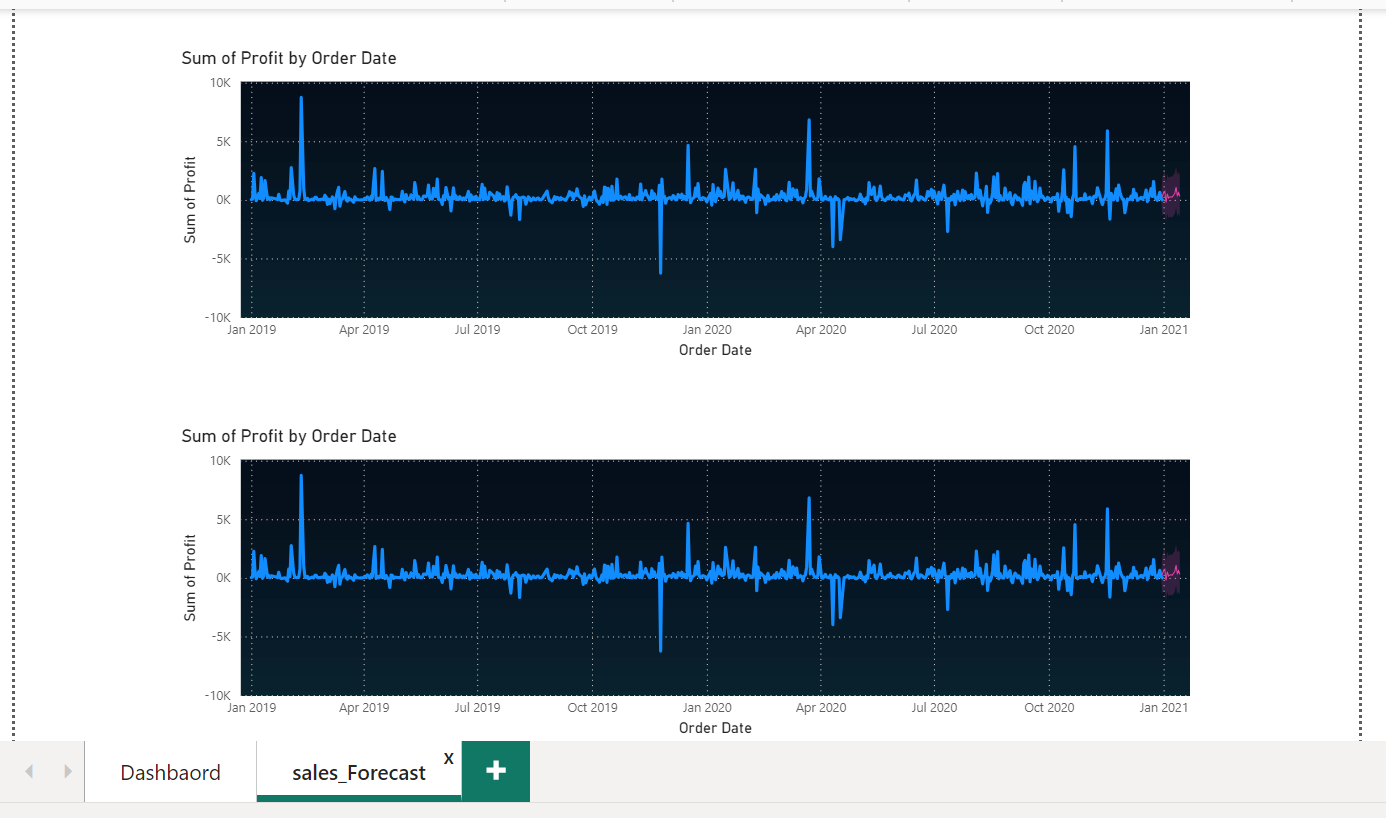

What the dashboard file says about the page in this screenshot:
{"tool":"powerbi","page":{"name":"sales_Forecast","canvas":[1280,720],"ordinal":1},"visuals":[{"type":"lineChart","fields":{"Y":["Sum(SuperStore_Sales_Dataset.Profit)"],"Category":["SuperStore_Sales_Dataset.Order Date"]},"box":[153.8,419.5,984.8,299.6],"z":0},{"type":"lineChart","fields":{"Y":["Sum(SuperStore_Sales_Dataset.Profit)"],"Category":["SuperStore_Sales_Dataset.Order Date"]},"box":[153.8,59.9,984.8,299.6],"z":1000}]}

Visuals, with their boxes on the page's 1280x720 design canvas (x1, y1, x2, y2). These are canvas units, not pixel positions in the 1386x818 screenshot, which may show the page scaled, cropped or inside an application window:
lineChart - Sum(SuperStore_Sales_Dataset.Profit) x SuperStore_Sales_Dataset.Order Date: (154, 420, 1139, 719)
lineChart - Sum(SuperStore_Sales_Dataset.Profit) x SuperStore_Sales_Dataset.Order Date: (154, 60, 1139, 360)
